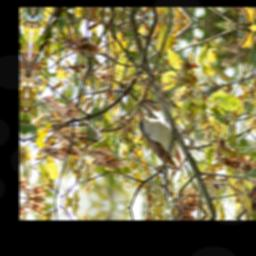Cuckoo: (130, 106, 185, 178)
